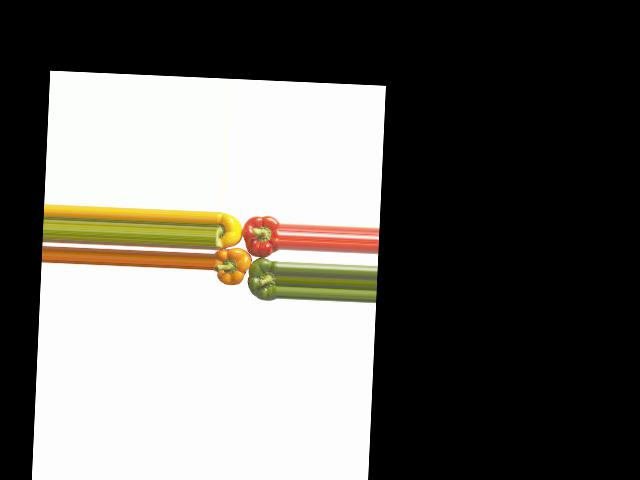bell_pepper: (214, 210, 245, 253)
